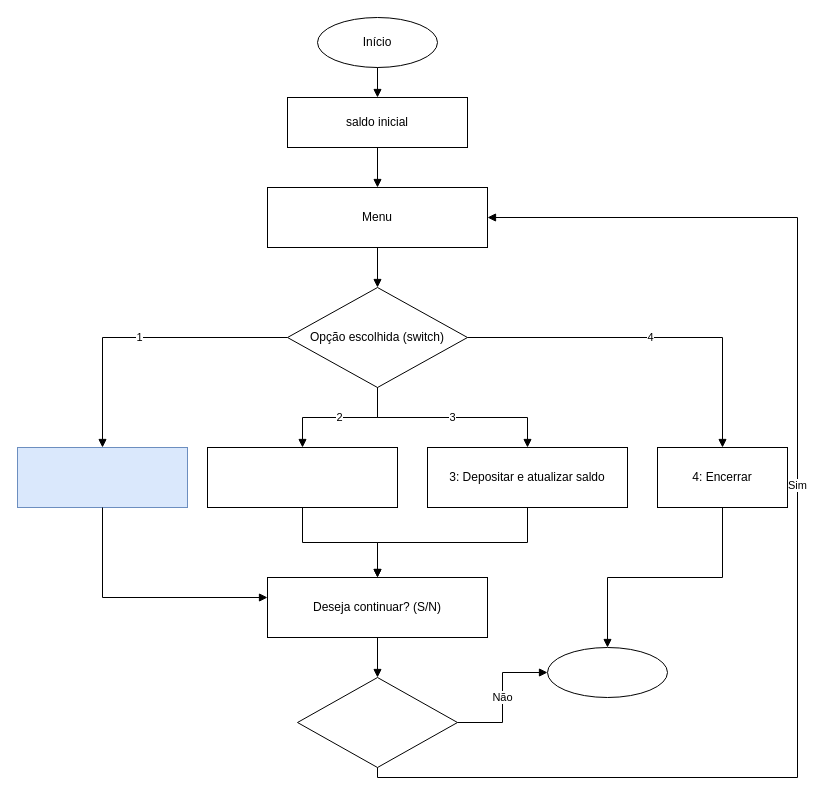
This 824x803 diagram has some shape labels left out. Here are the shapes that lost their labels. From the top down, the centre of each, then its label:
the point at 102,477: 1: Mostrar saldo
the point at 302,477: 2: Sacar e atualizar saldo
the point at 607,672: Fim
the point at 377,722: Resposta = S?
